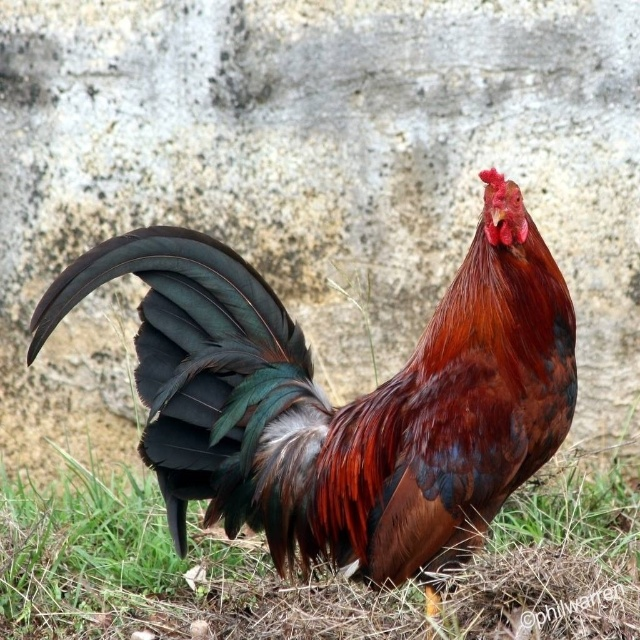Chicken: (31, 165, 575, 639)
